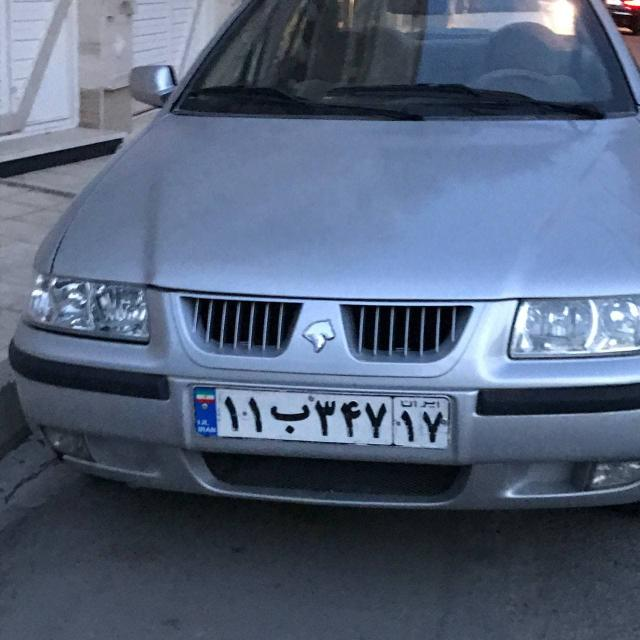Plates: (193, 387, 451, 449)
